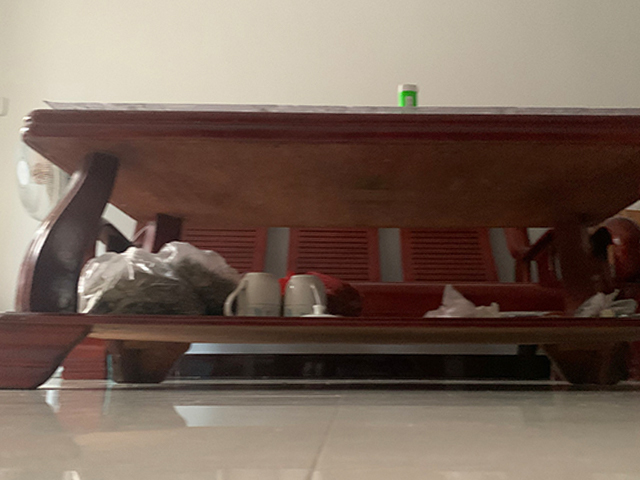table: (1, 108, 640, 390)
